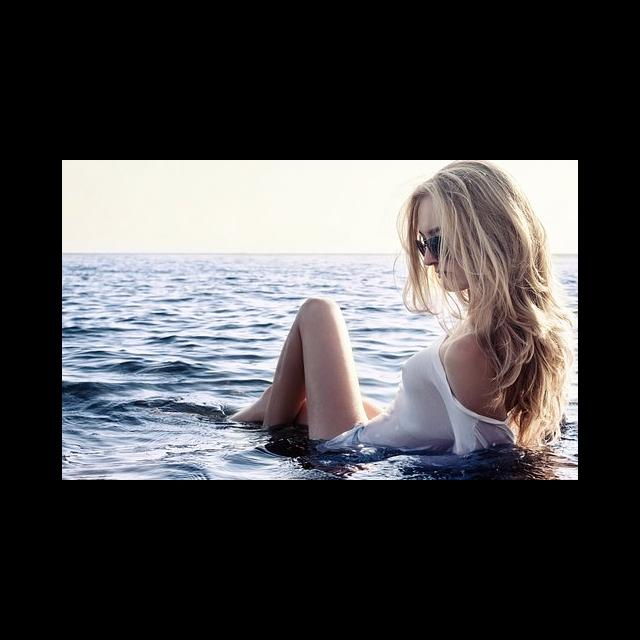female: (388, 162, 556, 313)
